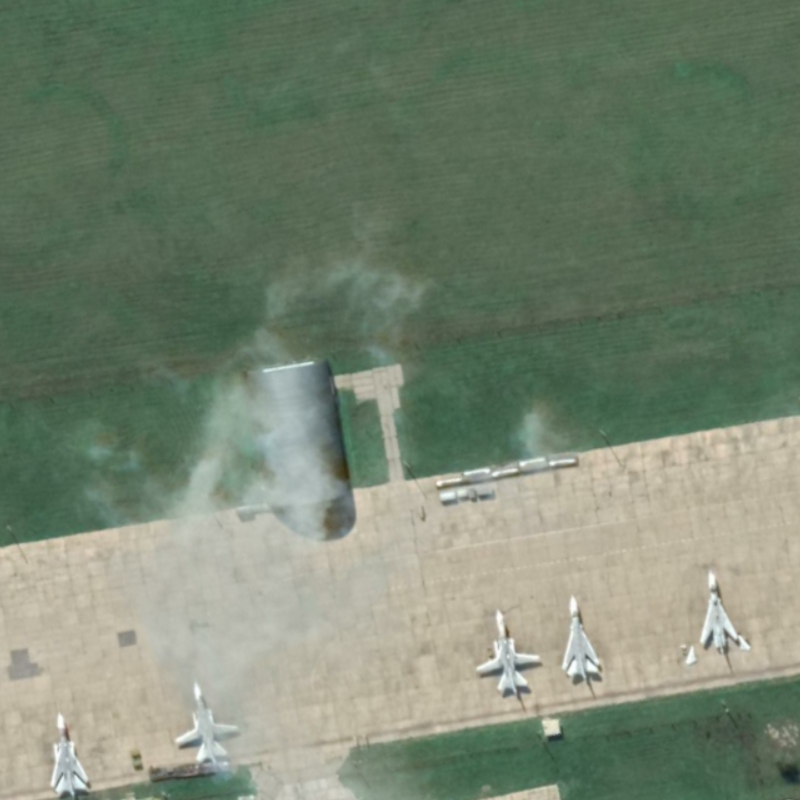A20: (473, 606, 543, 696), (171, 679, 240, 766), (47, 710, 92, 799), (558, 592, 602, 681), (697, 567, 741, 650)
